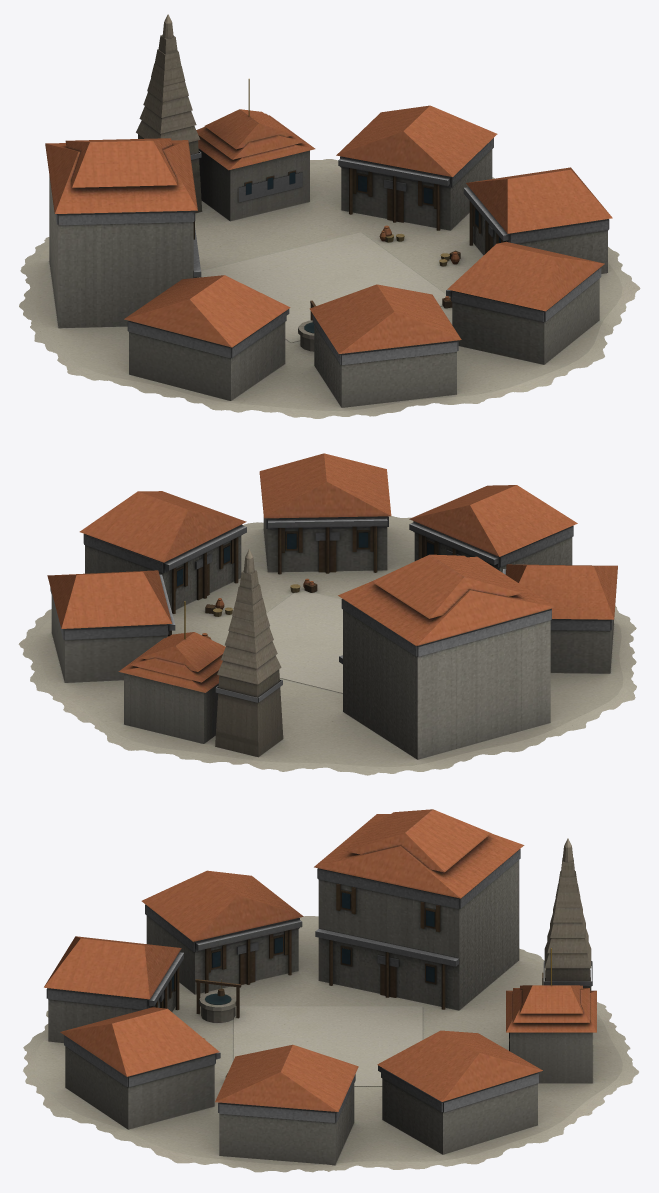
Rendered from gunpowder-town-small-a-monsoon.glb.
3 views of the same model, one above another, from view 1: azimuth 30°, elevation 25°; view 2: azimuth 150°, elevation 25°; view 3: azimuth 270°, elevation 25° (orthographic).
Visible parts, largest first — view 1: LOD0; view 2: LOD0; view 3: LOD0.
Boxes of the visible parts, left/top/right/bottom form: LOD0: left=19, top=14, right=640, bottom=418; LOD0: left=18, top=453, right=636, bottom=775; LOD0: left=23, top=809, right=638, bottom=1172.
Size of what is drawn, in the model's own units: 3.98 by 1.37 by 4.01.
3 materials, 3 textured.
